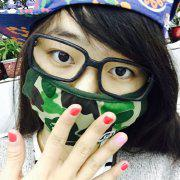OK: (28, 27, 152, 147)
